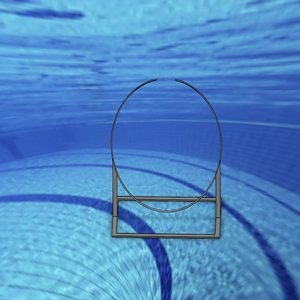circle: (108, 76, 225, 239)
